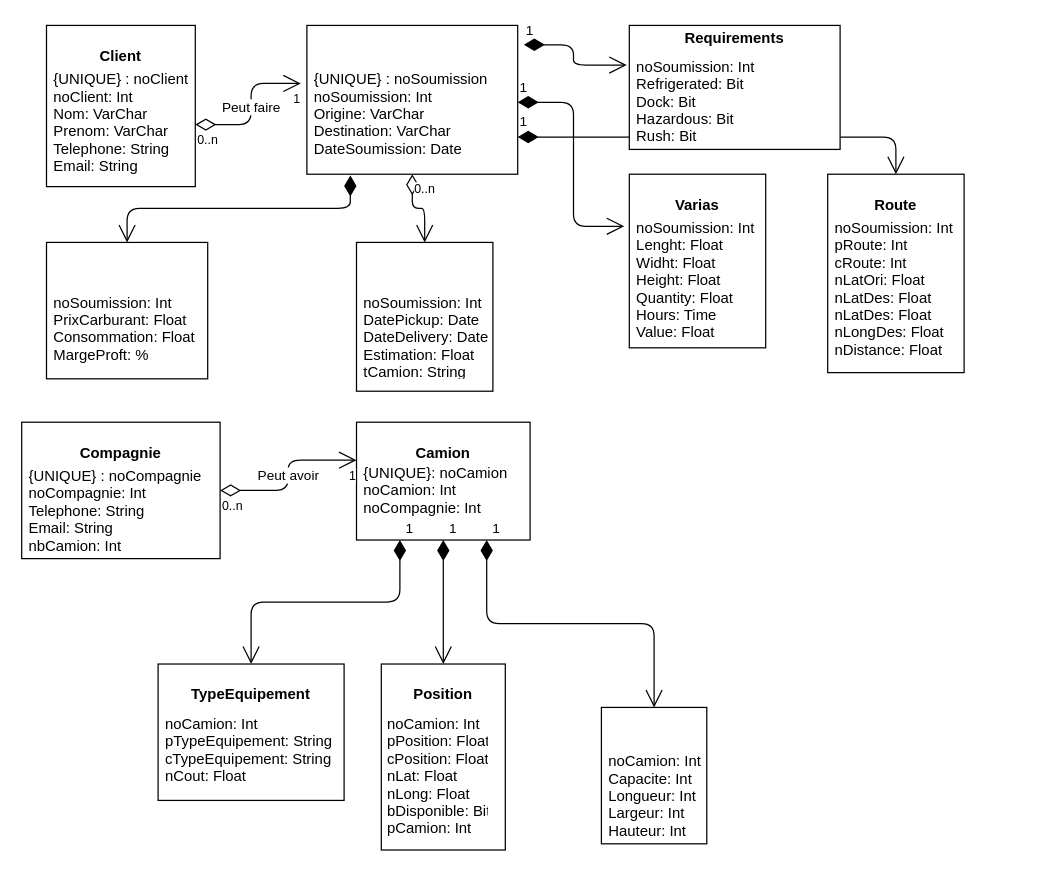
The diagram is 1060 pixels wide and 882 high, and some of its shapes have lost their labels. The shapes that lost their labels are listed below. From the top down, each one's box as (x1, y1, x2, y2) in pixels, then its label:
(306, 24, 518, 174): DemandeSoumission
(45, 241, 208, 379): FacteurPrix
(355, 241, 493, 391): Proposition
(600, 706, 707, 844): Remorque
